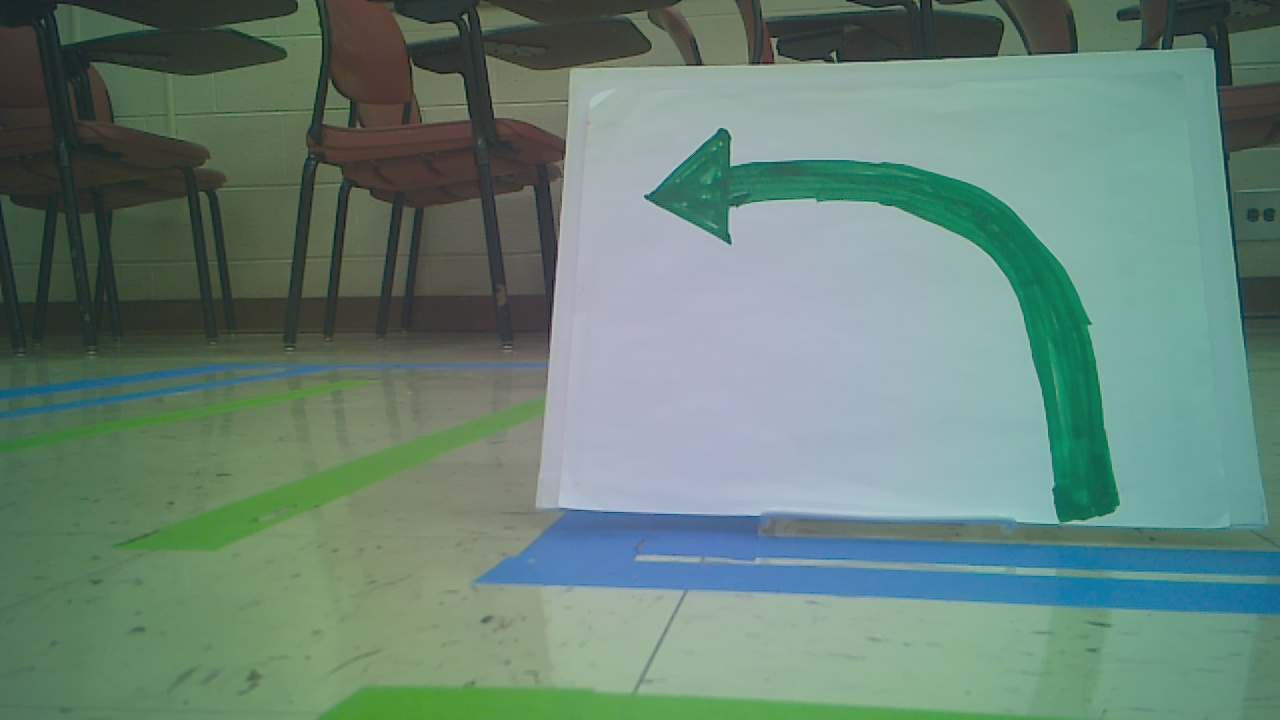greenline: (142, 396, 545, 539), (9, 384, 366, 459)
left: (622, 124, 1115, 519)
